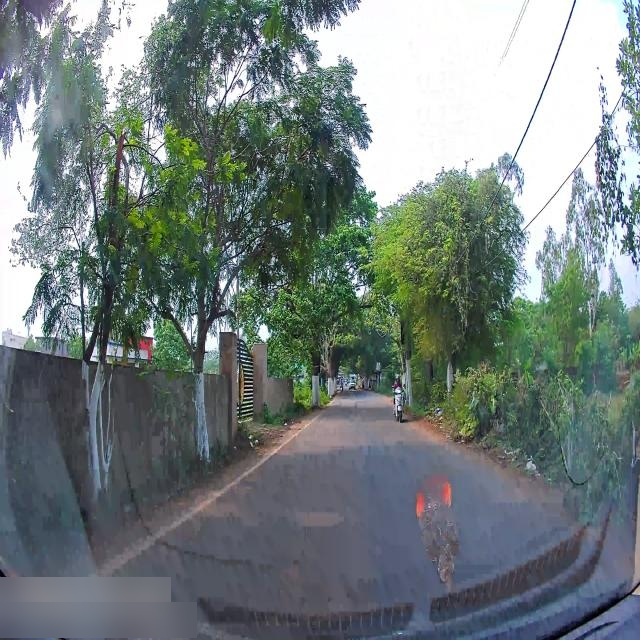pothole: (283, 502, 346, 531)
